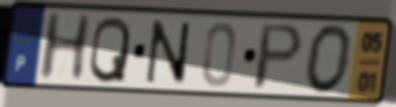0: (200, 20, 238, 89)
H: (35, 10, 95, 83)
N: (144, 18, 192, 87)
O: (303, 22, 355, 97)
P: (249, 22, 307, 92)
Q: (87, 14, 133, 86)
